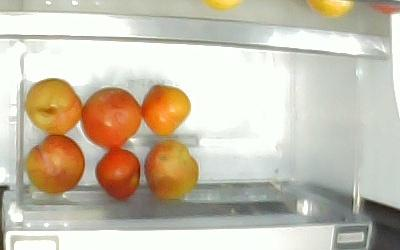prune: (81, 87, 142, 149), (25, 136, 86, 195), (144, 141, 199, 200), (25, 78, 81, 135), (142, 83, 191, 137), (95, 148, 139, 201)
